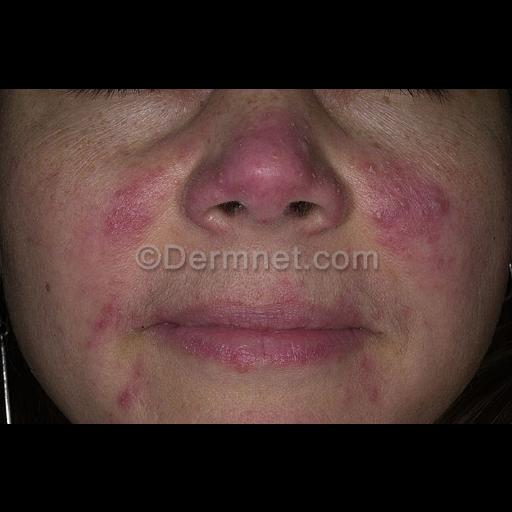Skin_Lesion: (370, 176, 452, 250), (236, 127, 294, 199), (96, 186, 156, 244), (66, 88, 182, 110), (90, 298, 124, 336), (114, 382, 136, 410), (360, 162, 390, 178), (368, 382, 384, 408), (356, 354, 374, 374), (106, 412, 122, 424)
